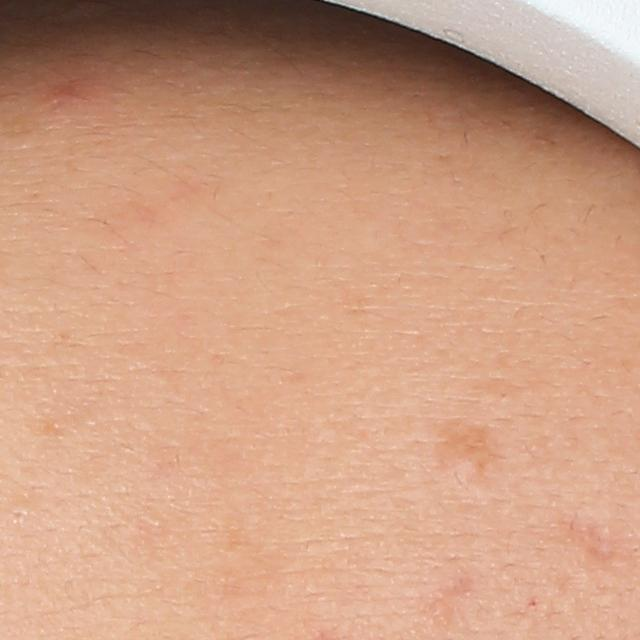comedo: (3, 503, 30, 530)
